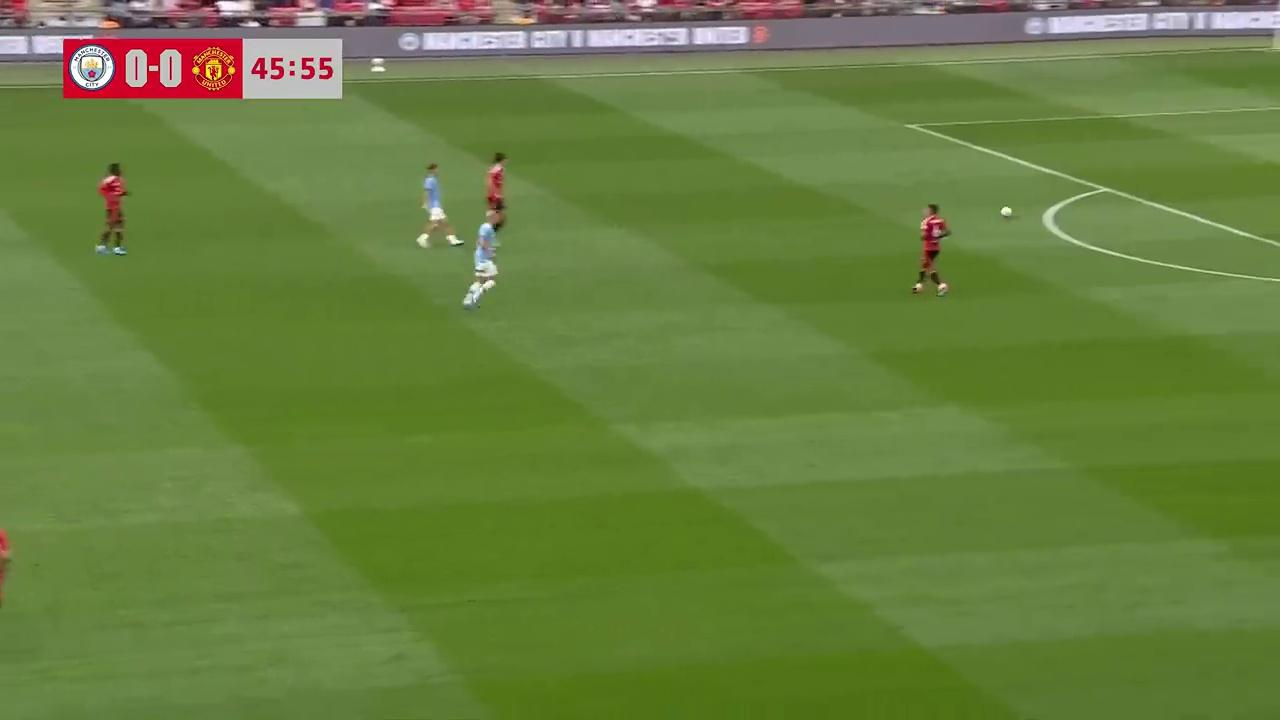ball: (999, 202, 1015, 219)
player: (911, 203, 951, 297), (415, 162, 457, 250), (462, 213, 500, 309), (94, 162, 129, 256), (485, 152, 506, 230), (0, 513, 12, 627)
